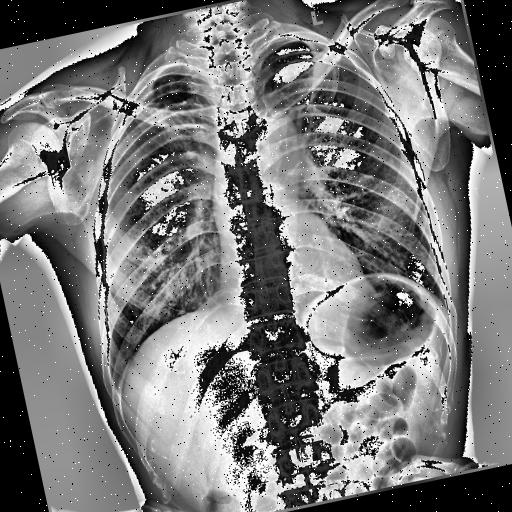0- Aortic enlargement: (244, 101, 303, 170)
11- Pleural thickening: (110, 71, 164, 123)
13- Pulmonary fibrosis: (134, 65, 210, 169), (137, 70, 211, 166), (138, 70, 198, 142)
